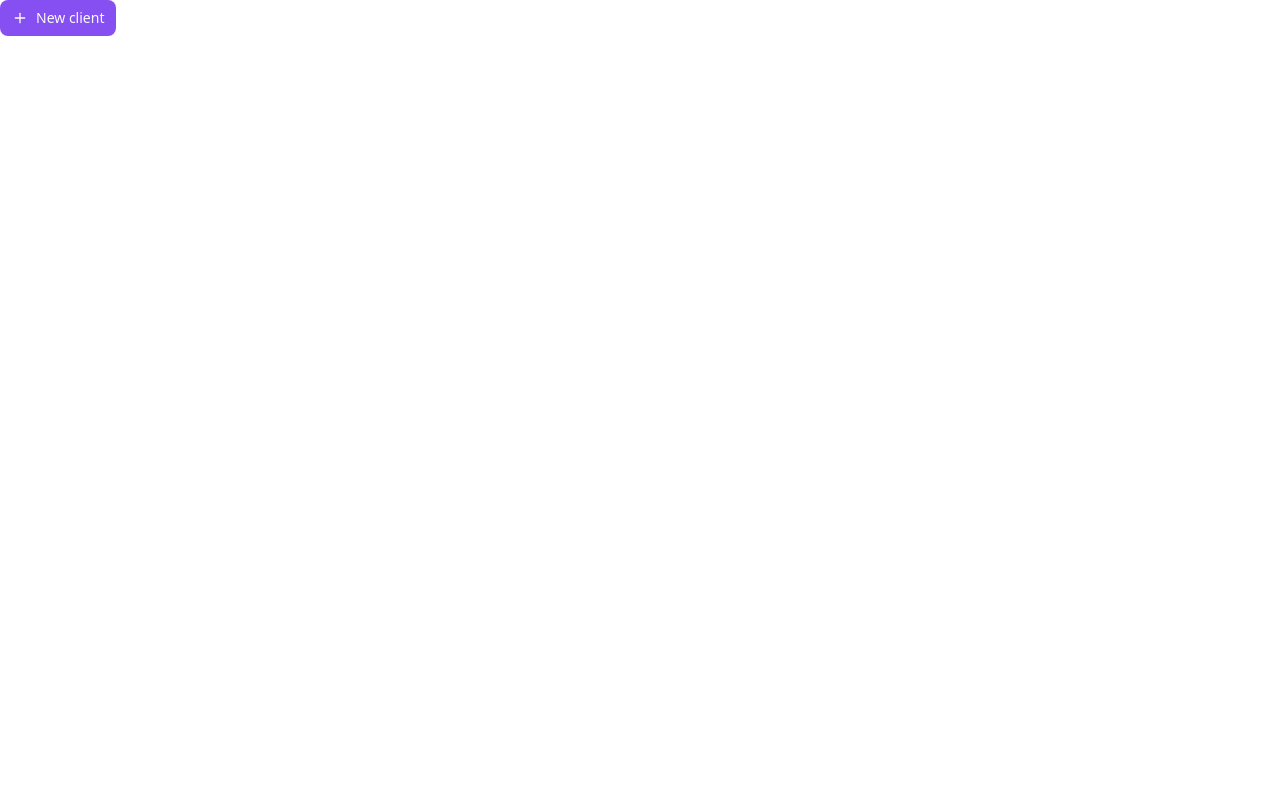
confirmed client creation › reuses a duplicate by opening details without confirmation or a creation receipt
This screenshot has width=1280, height=800.
Click the button "New client": (58, 18) top-left (0, 0), bottom-right (116, 36)
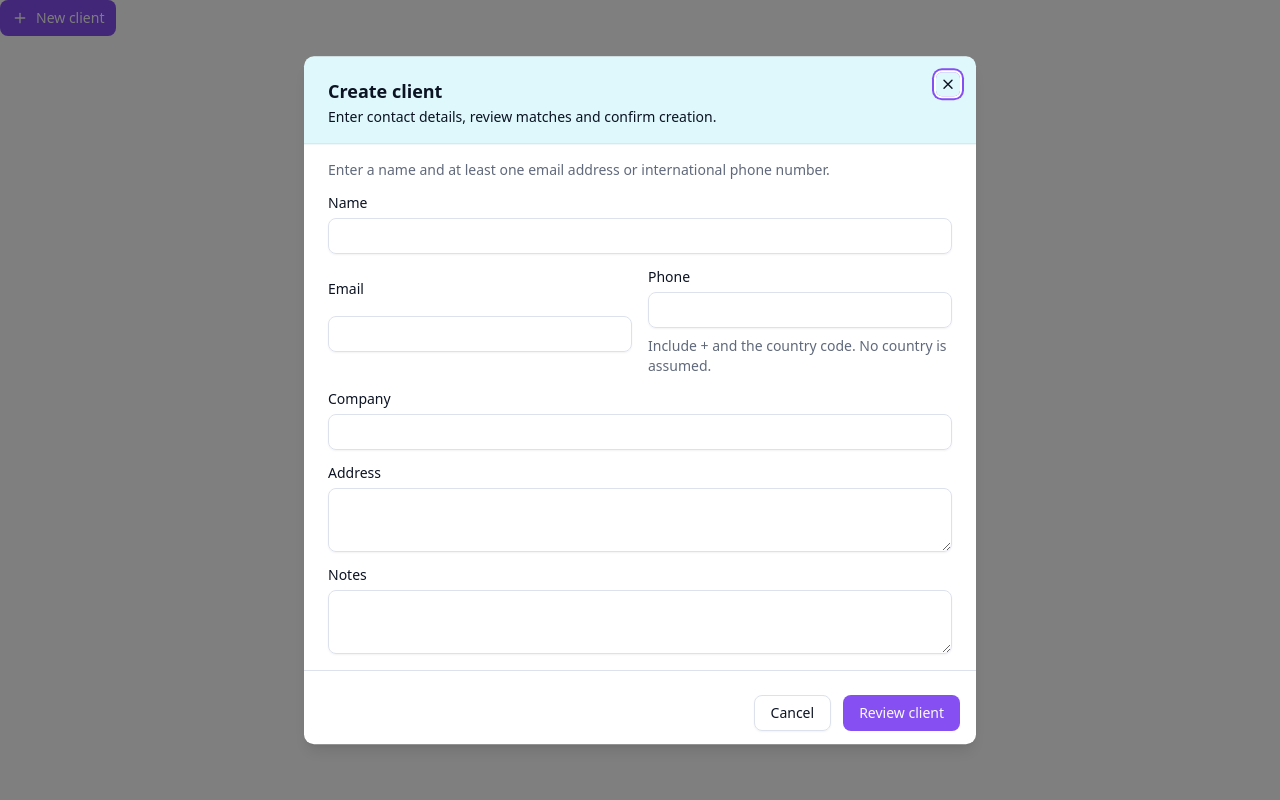
In the field labelled "Name": (640, 236) top-left (328, 218), bottom-right (952, 254), type " Ana Perez "
In the field labelled "Email": (480, 334) top-left (328, 316), bottom-right (632, 352), type "ANA@EXAMPLE.COM"
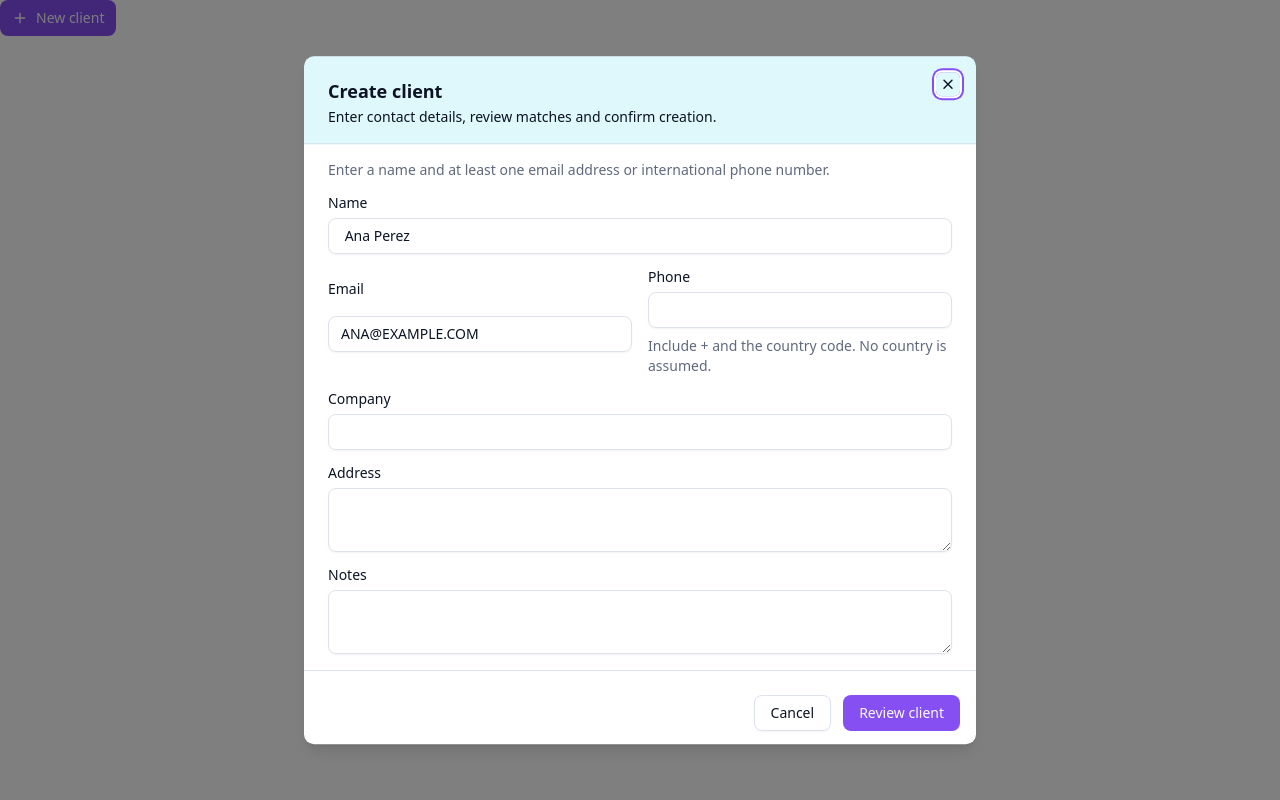
In the field labelled "Phone": (800, 310) top-left (648, 292), bottom-right (952, 328), type "+53 5123 4567"
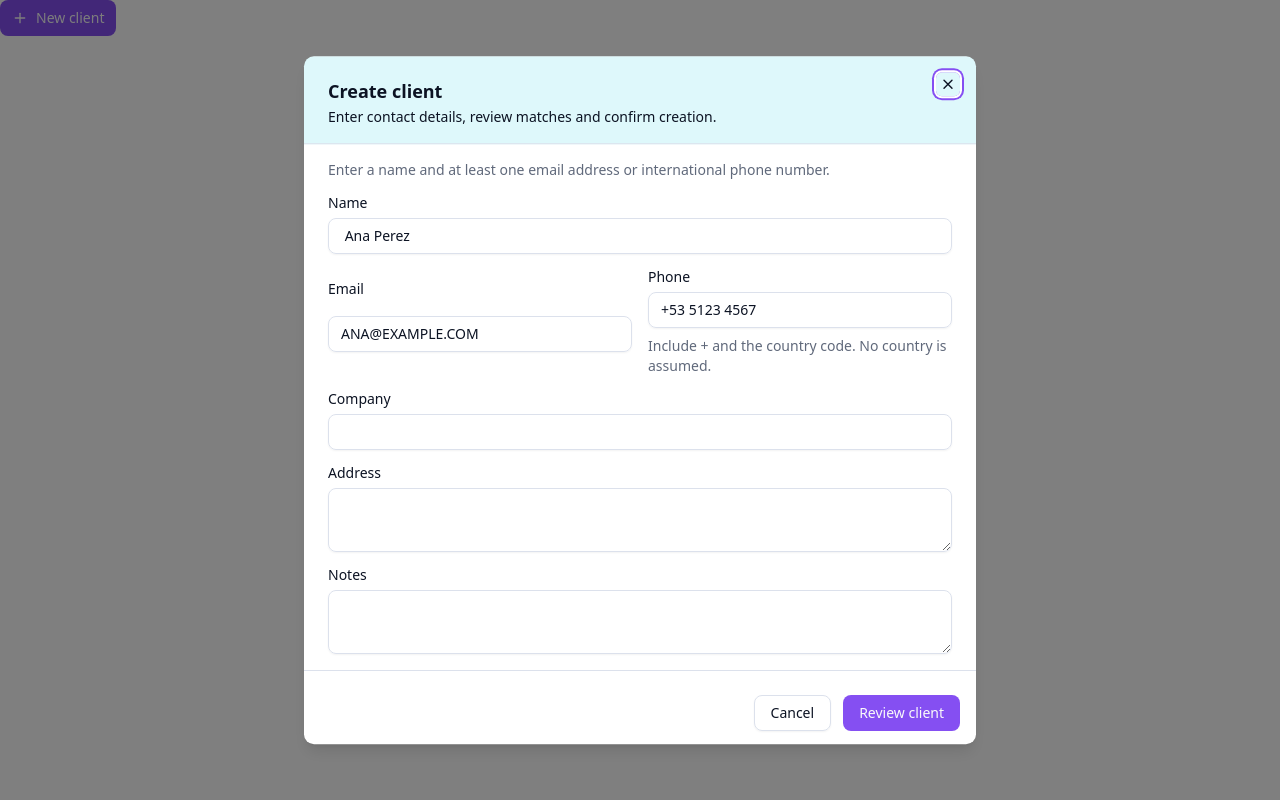
In the field labelled "Company": (640, 432) top-left (328, 414), bottom-right (952, 450), type " Demo "
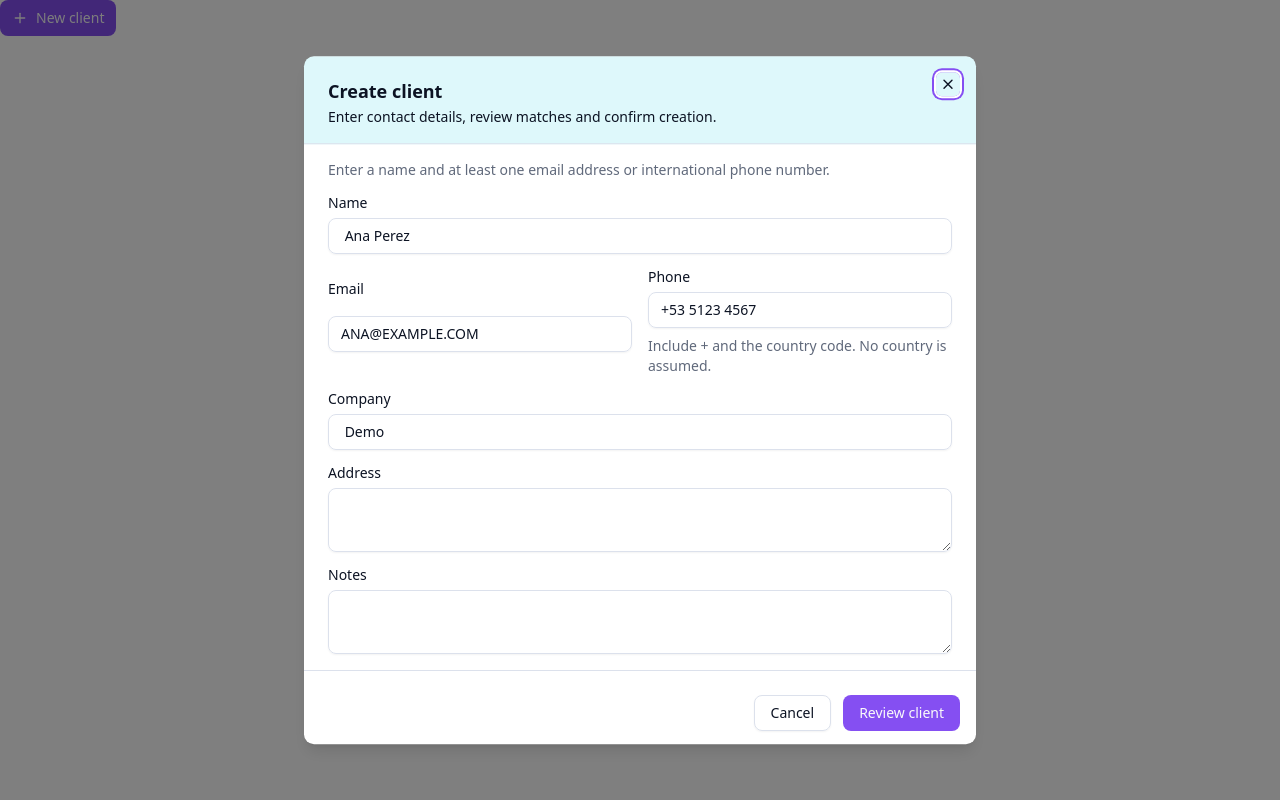
Click the button "Review client": (902, 713) top-left (843, 695), bottom-right (960, 731)
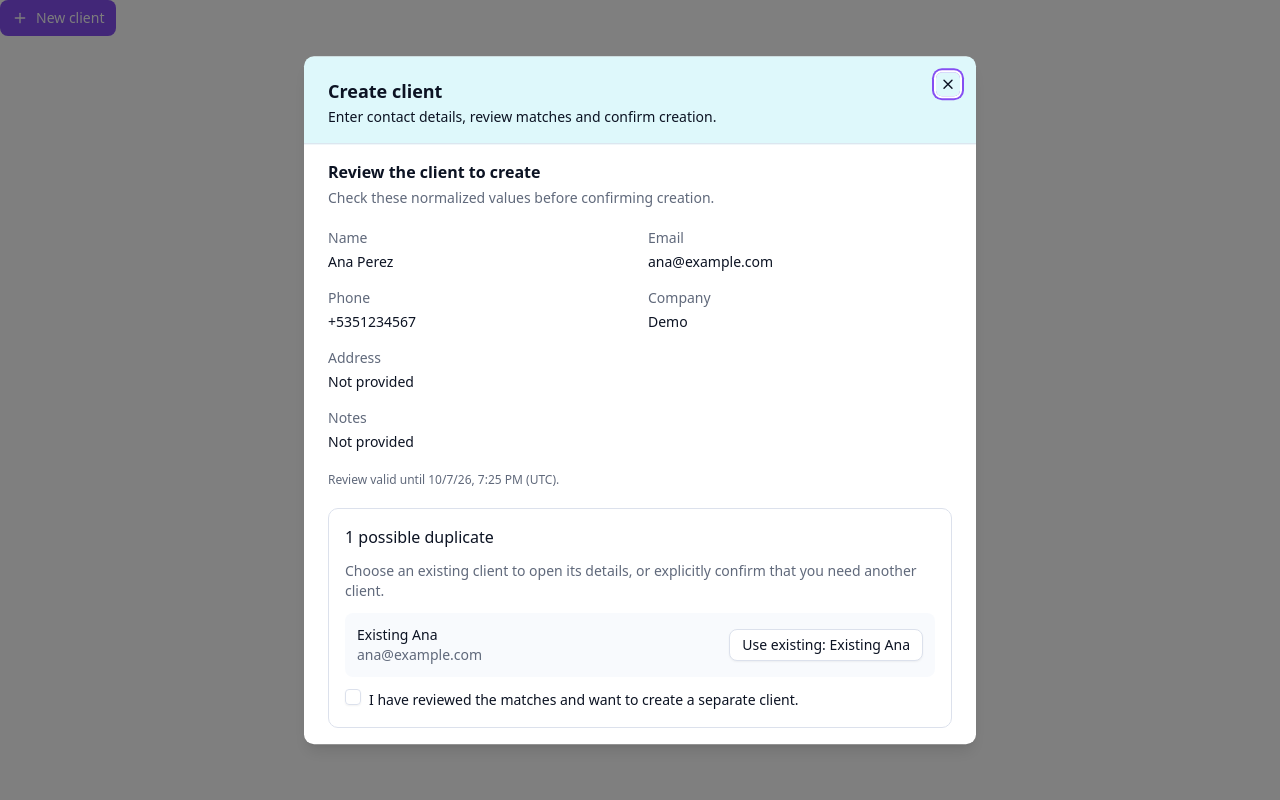
Expected: the element "Review the client to create" is shown, top-left (304, 144), bottom-right (976, 744)
Click the button "Use existing: Existing Ana": (826, 645) top-left (729, 629), bottom-right (923, 661)
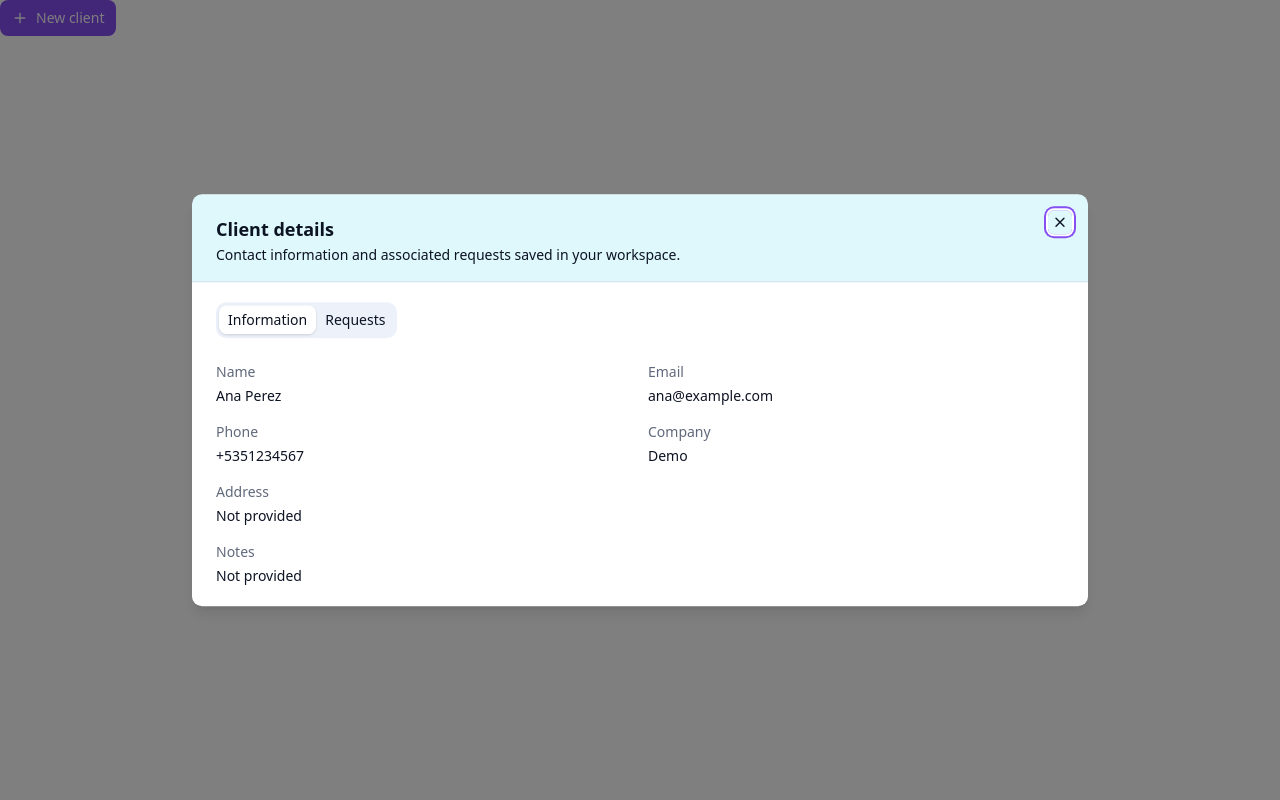
Expected: the dialog "Client details" is shown, top-left (192, 194), bottom-right (1088, 606)
